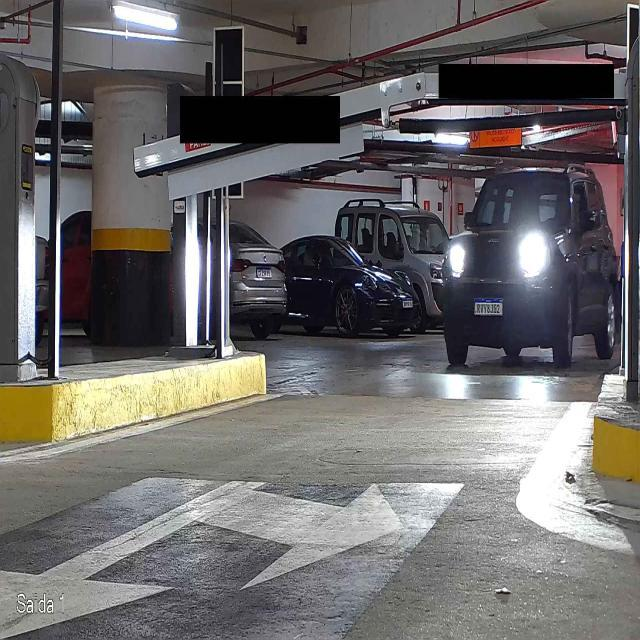mercosul_plate: (472, 297, 505, 317)
